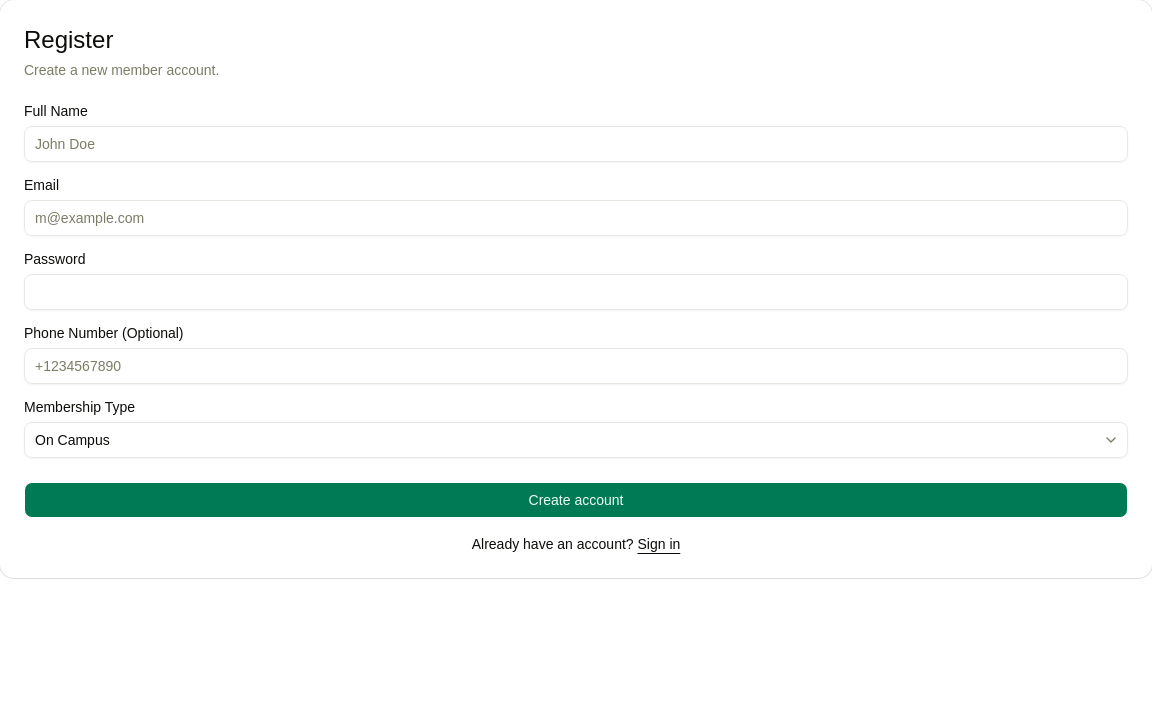
RegisterPage Component › displays error message when registration API returns error
Step 1. Type "Duplicate User" into the field labelled "Full Name" → (576, 144), box [24, 126, 1128, 162]
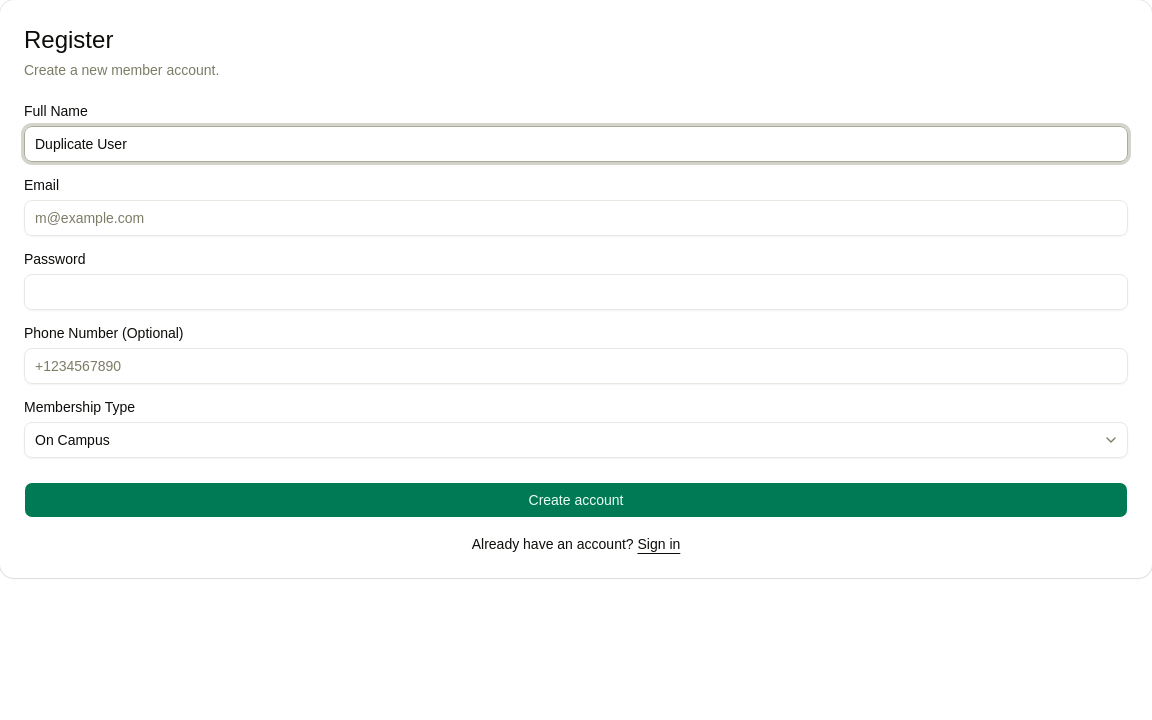
Step 2. Type "duplicate@example.com" into the field labelled "Email" → (576, 218), box [24, 200, 1128, 236]
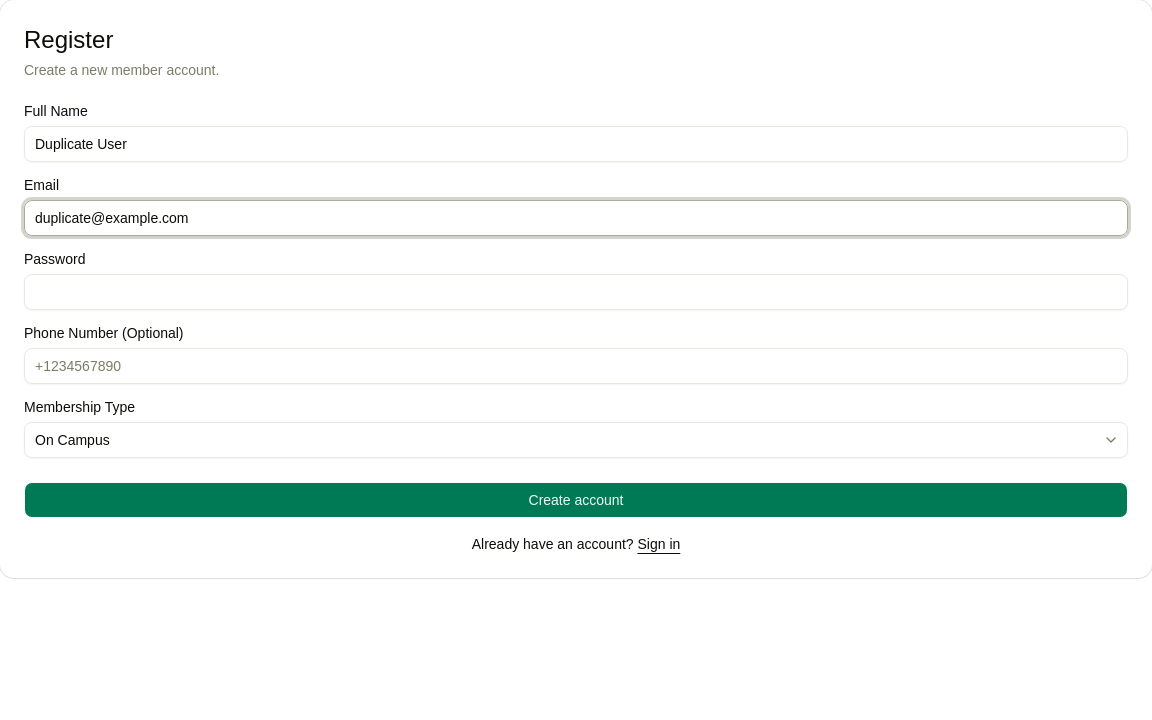
Step 3. Type "somepassword" into the password field labelled "Password" → (576, 292), box [24, 274, 1128, 310]
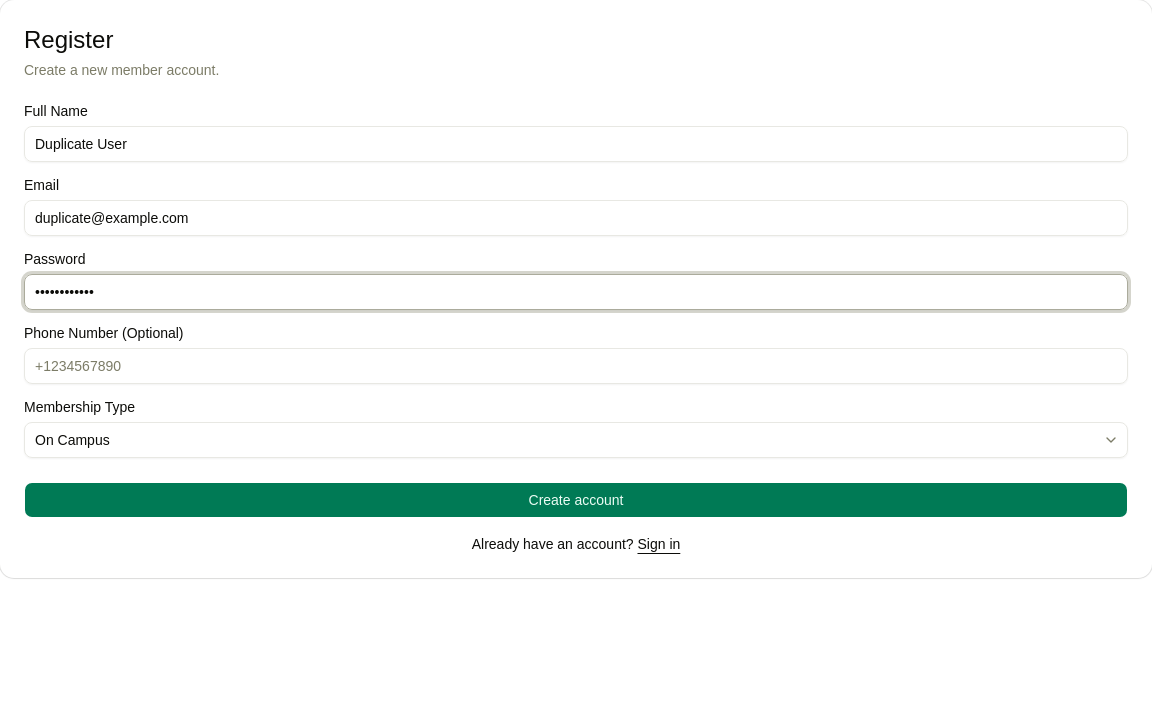
Step 4. Click the button "Create account" → click(576, 500), box [24, 482, 1128, 518]
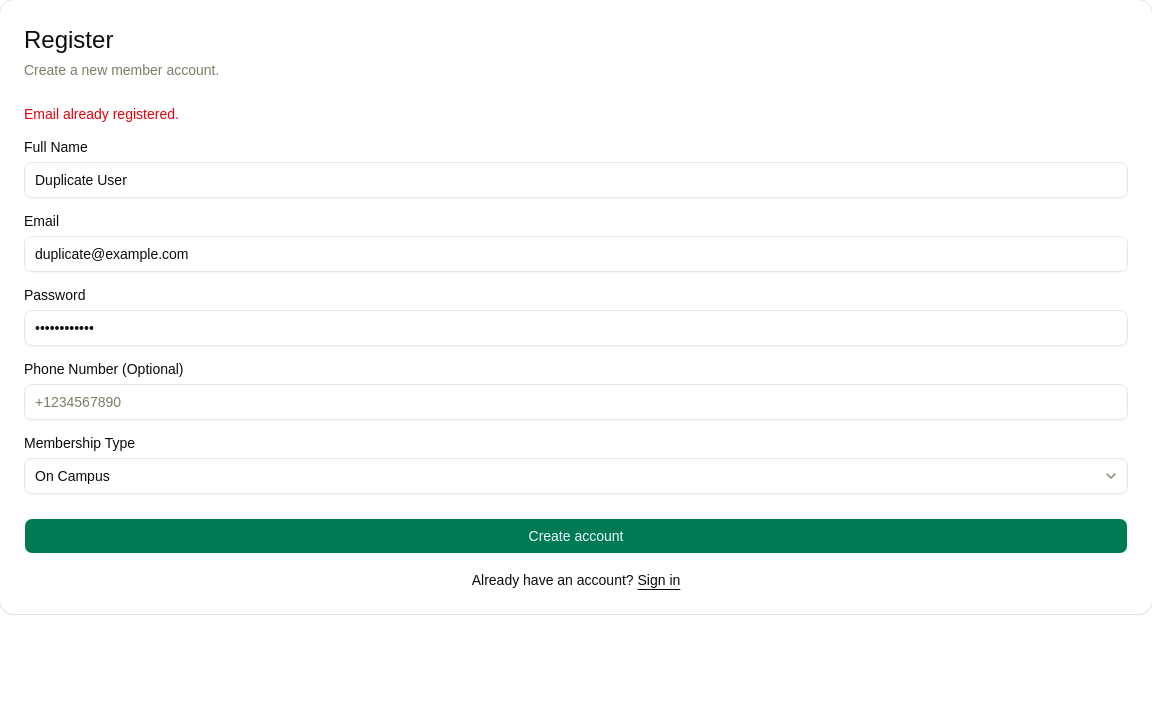
Now the text "Email already registered." is shown, box [24, 106, 179, 122]
